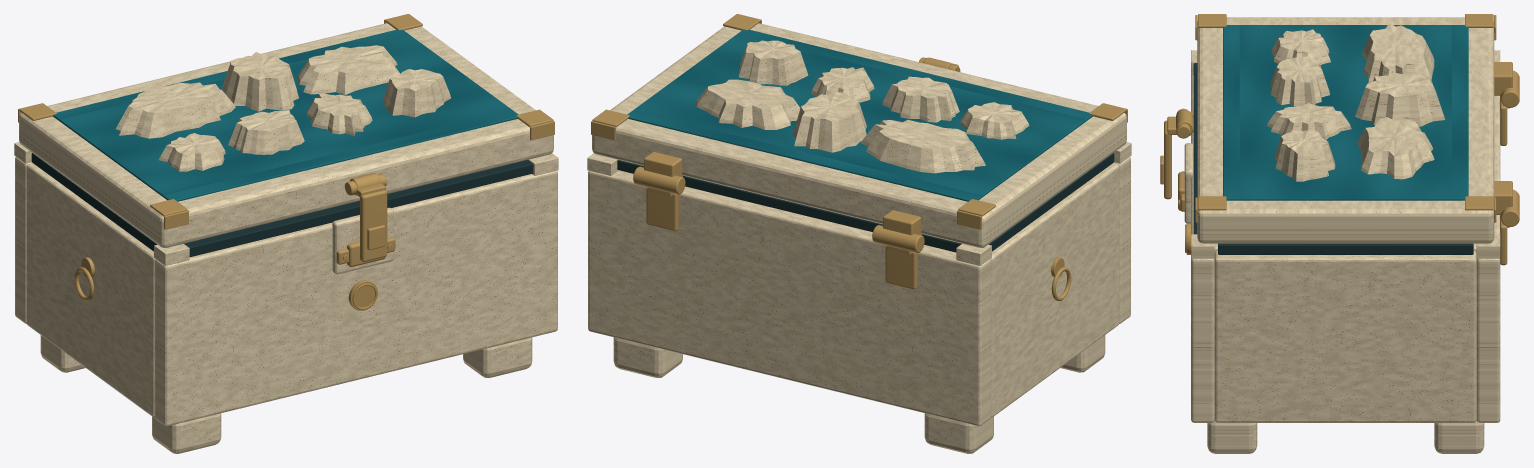
Rendered from eritrea.glb.
3 renders of one model, left to right at view 1: azimuth 30°, elevation 25°; view 2: azimuth 150°, elevation 25°; view 3: azimuth 270°, elevation 25°, orthographic. The views are drawn at different scales.
Visible parts, largest first — view 1: Limestone / long wall, Lid / polished slab, Sea / polished inset, Limestone / end wall, Seam / long, Island / 0, Island / 2, Island / 1, Island / 4, Island / 6, Island / 5, Limestone / foot (+9 smaller); view 2: Limestone / long wall.001, Lid / polished slab, Sea / polished inset, Limestone / end wall, Island / 0, Island / 2, Island / 1, Seam / long.001, Island / 4, Island / 6, Limestone / foot.001, Limestone / long wall (+13 smaller); view 3: Limestone / end wall.001, Sea / polished inset, Lid / polished slab, Limestone / long wall.001, Limestone / long wall, Island / 2, Island / 1, Seam / side.001, Island / 0, Island / 6, Island / 4, Island / 5 (+16 smaller).
Boxes of the visible parts, x1,y1,x2,y2 form: Limestone / long wall: (155, 170, 557, 426); Lid / polished slab: (19, 23, 553, 247); Sea / polished inset: (53, 29, 518, 201); Limestone / end wall: (26, 163, 155, 417); Seam / long: (184, 160, 533, 256); Island / 0: (116, 82, 235, 138); Island / 2: (297, 45, 400, 94); Island / 1: (222, 52, 298, 111); Island / 4: (228, 110, 304, 154); Island / 6: (382, 69, 450, 117); Island / 5: (306, 93, 372, 135); Limestone / foot: (152, 413, 221, 453); Limestone / long wall.001: (588, 170, 990, 426); Lid / polished slab: (592, 23, 1126, 247); Sea / polished inset: (627, 29, 1092, 201); Limestone / end wall: (990, 163, 1119, 417); Island / 0: (861, 119, 985, 173); Island / 2: (695, 79, 800, 129); Island / 1: (792, 92, 866, 152); Seam / long.001: (617, 160, 961, 252); Island / 4: (882, 76, 959, 122); Island / 6: (738, 40, 808, 85); Limestone / foot.001: (924, 413, 993, 453); Limestone / long wall: (1113, 157, 1130, 323); Limestone / end wall.001: (1214, 251, 1476, 422); Sea / polished inset: (1223, 25, 1468, 200); Lid / polished slab: (1197, 17, 1494, 243); Limestone / long wall.001: (1476, 95, 1500, 422); Limestone / long wall: (1191, 74, 1214, 422); Island / 2: (1357, 117, 1434, 179); Island / 1: (1355, 72, 1445, 126); Seam / side.001: (1218, 243, 1473, 254); Island / 0: (1362, 23, 1434, 83); Island / 6: (1274, 130, 1335, 181); Island / 4: (1270, 56, 1329, 106); Island / 5: (1266, 103, 1351, 140).
Size of the model in its own units: 3.79 by 2.51 by 2.88.
Materials: 4 (2 with a texture image).
